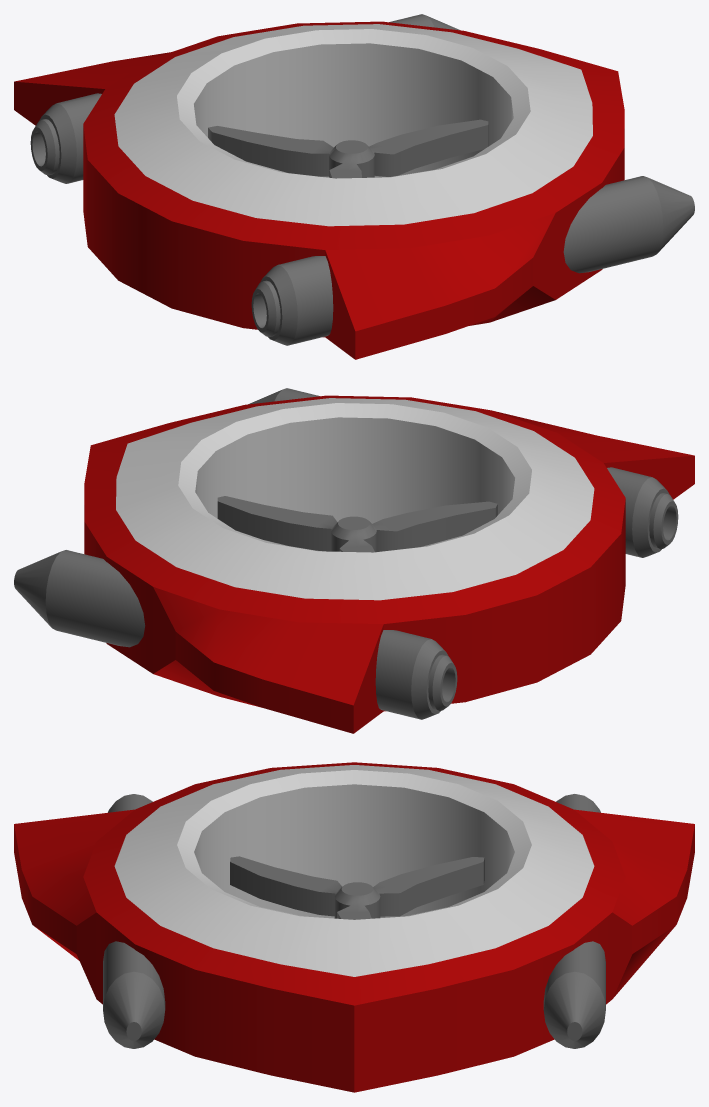
Rendered from DroneB.fbx.
The picture shows the model from 3 angles, top to bottom: view 1: azimuth 30°, elevation 25°; view 2: azimuth 150°, elevation 25°; view 3: azimuth 270°, elevation 25°; orthographic projection.
Parts seen in each view (by area): view 1: DroneB; view 2: DroneB; view 3: DroneB.
Part boxes in pixels (x1,y1,x2,y2): DroneB: (14,14,694,359); DroneB: (14,388,694,733); DroneB: (14,762,694,1092).
Size of the model in its own units: 121 by 34.91 by 143.
